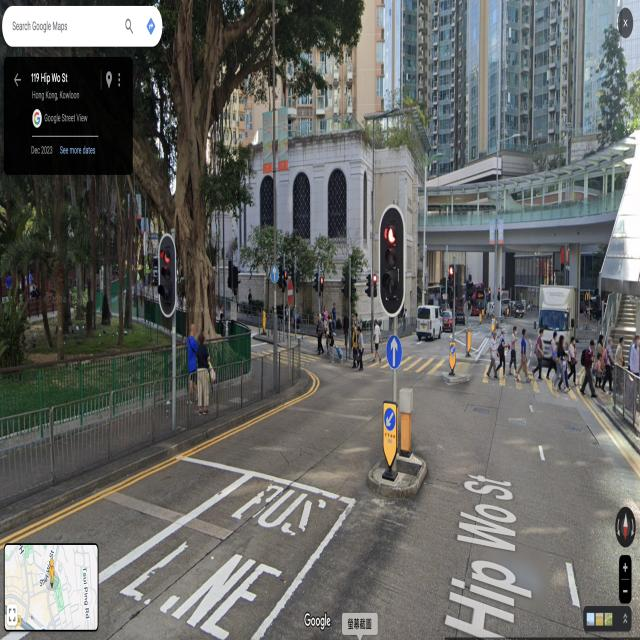Order-Sign: (386, 334, 402, 370), (384, 407, 396, 429), (288, 280, 293, 304), (271, 267, 278, 280), (450, 345, 455, 354), (492, 320, 494, 324)
